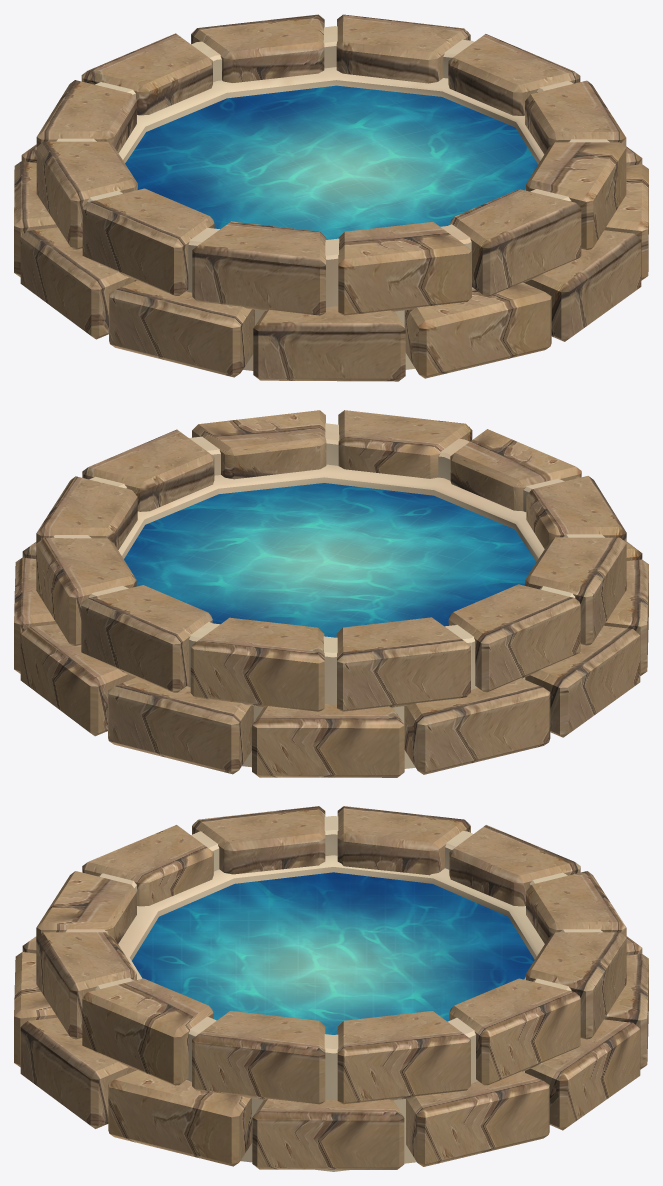
Rendered from Pool.fbx.
3 renders of one model, top to bottom at view 1: azimuth 30°, elevation 25°; view 2: azimuth 150°, elevation 25°; view 3: azimuth 270°, elevation 25°, orthographic.
Parts seen in each view (by area): view 1: Pool; view 2: Pool; view 3: Pool.
Boxes of the visible parts, x1,y1,x2,y2 form: Pool: (14, 14, 648, 381); Pool: (14, 410, 648, 777); Pool: (14, 806, 648, 1171).
Size of the model in its own units: 594 by 131 by 598.
Materials: 1 (1 with a texture image).
